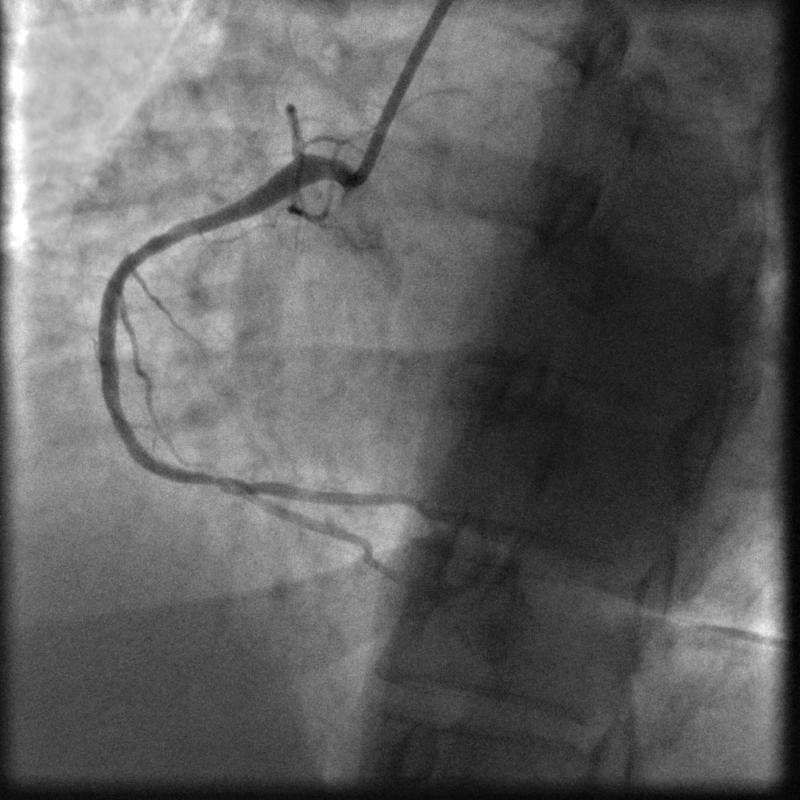Stenosis: (198, 458, 243, 500)
